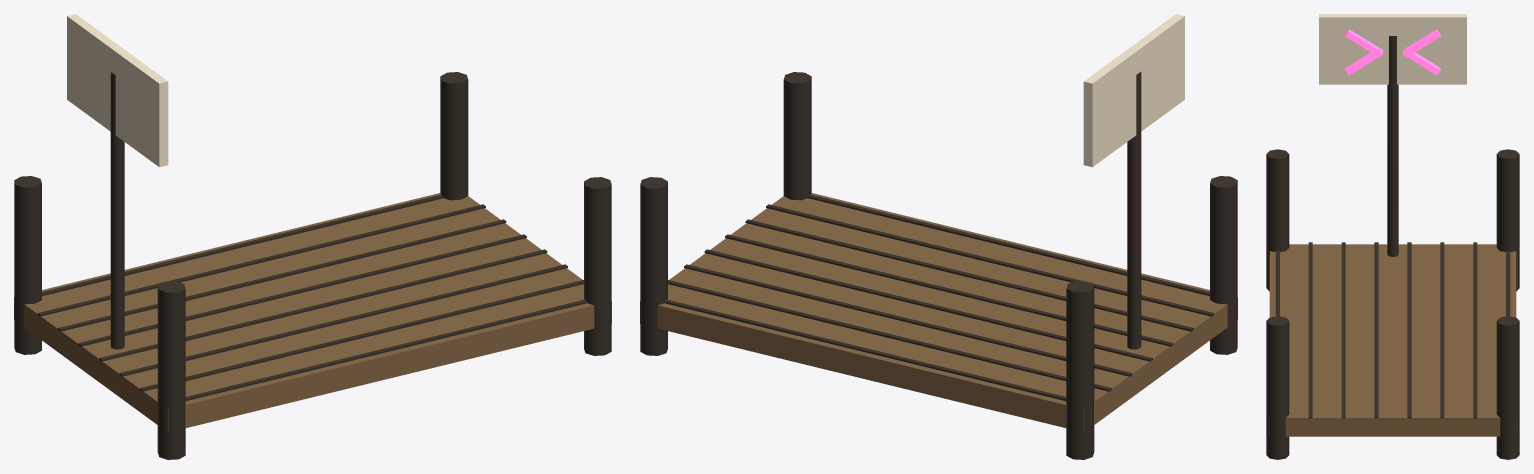
Rendered from swap-dock.glb.
3 views of the same model, side by side, from view 1: azimuth 30°, elevation 25°; view 2: azimuth 150°, elevation 25°; view 3: azimuth 270°, elevation 25° (orthographic). The views are drawn at different scales.
Parts seen in each view (by area): view 1: dock timber, dock post, dock sign; view 2: dock timber, dock post, dock sign; view 3: dock timber, dock post, dock sign, dock neon.
Boxes of the visible parts, x1,y1,x2,y2 form: dock timber: (14, 193, 611, 432); dock post: (14, 71, 611, 459); dock sign: (67, 14, 168, 167); dock timber: (640, 193, 1237, 432); dock post: (640, 71, 1237, 459); dock sign: (1083, 14, 1184, 167); dock timber: (1269, 244, 1516, 436); dock post: (1266, 36, 1519, 459); dock sign: (1319, 14, 1466, 84); dock neon: (1345, 29, 1440, 75).
Size of the model in its own units: 5.08 by 3.75 by 3.08.
